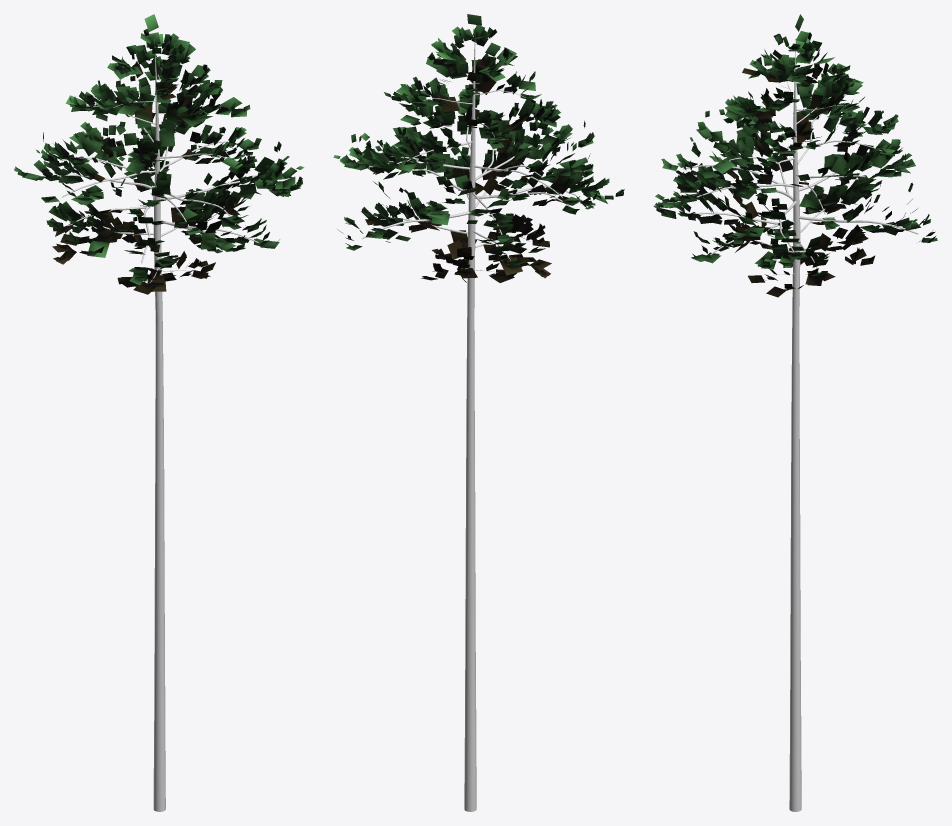
File: PW3DVT_HeroPine_2_lod1.fbx
3 renders of one model, left to right at view 1: azimuth 30°, elevation 25°; view 2: azimuth 150°, elevation 25°; view 3: azimuth 270°, elevation 25°, orthographic.
Parts seen in each view (by area): view 1: leaves.005, tree.004, tree.005; view 2: leaves.005, tree.004, tree.005; view 3: leaves.005, tree.004, tree.005.
Part boxes in pixels (bbox=[...]): leaves.005: bbox=[14, 14, 304, 294]; tree.004: bbox=[153, 39, 165, 811]; tree.005: bbox=[57, 74, 258, 282]; leaves.005: bbox=[333, 14, 624, 282]; tree.004: bbox=[464, 32, 476, 811]; tree.005: bbox=[361, 89, 575, 272]; leaves.005: bbox=[653, 14, 937, 297]; tree.004: bbox=[789, 40, 801, 811]; tree.005: bbox=[683, 81, 918, 277].
Size of the model in its own units: 7.17 by 21.19 by 6.91.
